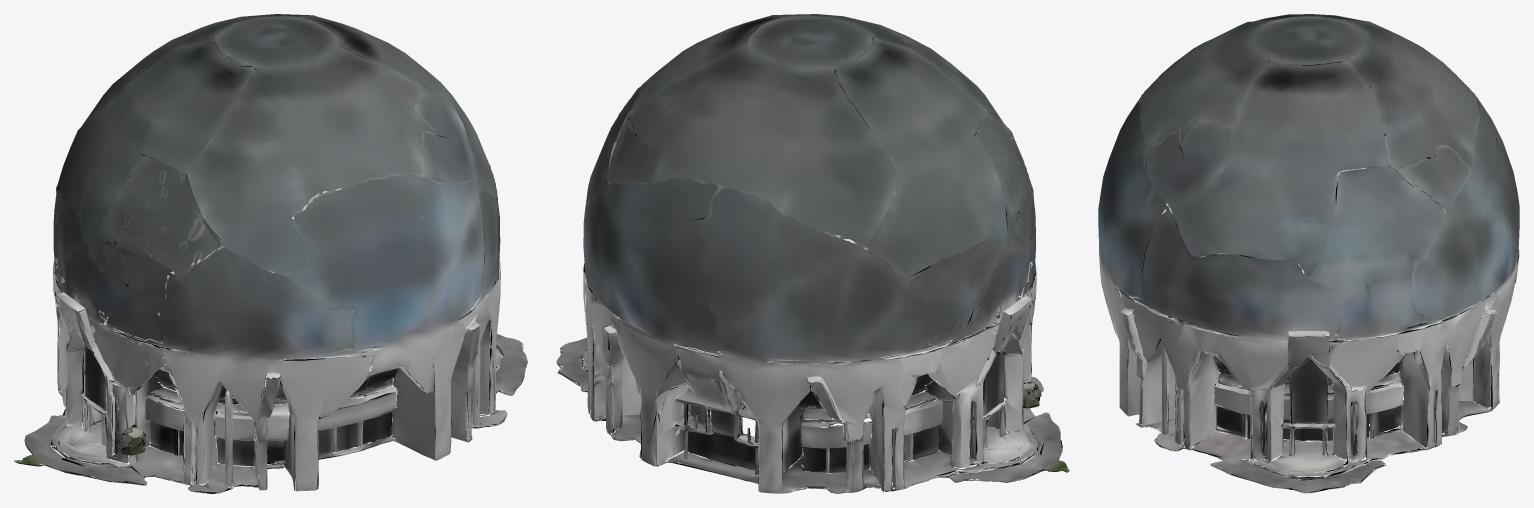
File: plazir-dome.hq.glb
3 views of the same model, side by side, from view 1: azimuth 30°, elevation 25°; view 2: azimuth 150°, elevation 25°; view 3: azimuth 270°, elevation 25° (orthographic). The views are drawn at different scales.
Parts seen in each view (by area): view 1: low; view 2: low; view 3: low.
Part boxes in pixels (box(x1,y1,x2,y2)): low: box(14, 14, 527, 493); low: box(556, 14, 1069, 493); low: box(1098, 14, 1519, 493).
Bounding box in the file's own units: 0.9002 × 0.6271 × 0.6908.
1 material, 1 textured.
